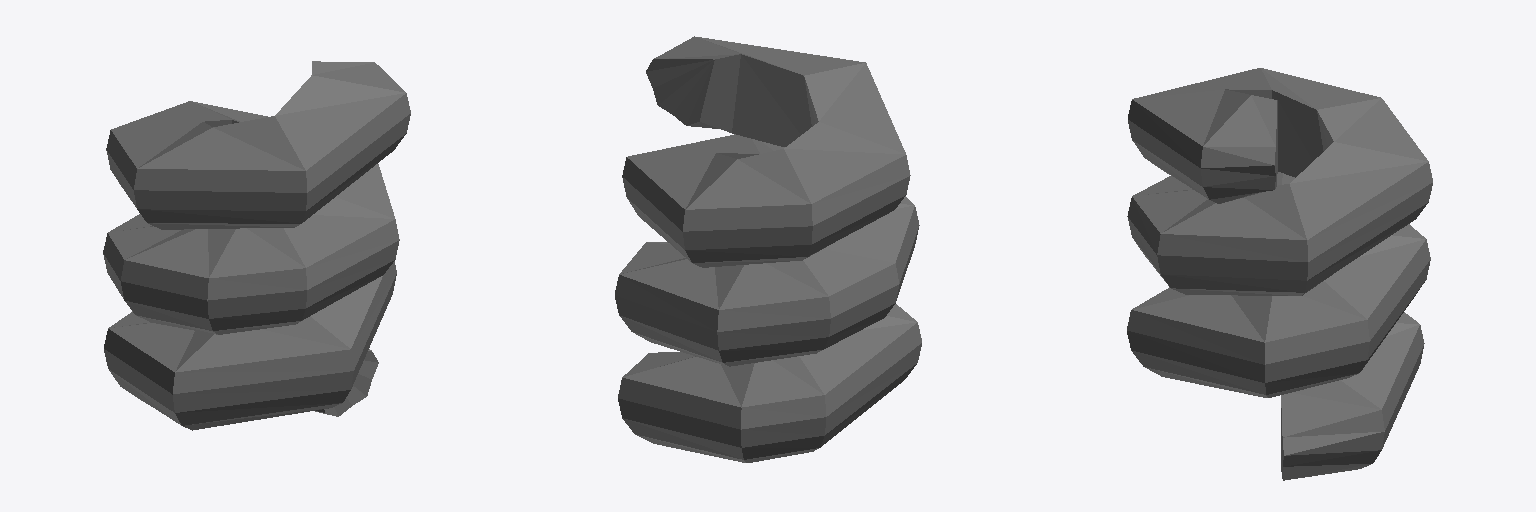
Rendered from helix_2.obj.
The picture shows the model from 3 angles: view 1: azimuth 30°, elevation 25°; view 2: azimuth 150°, elevation 25°; view 3: azimuth 270°, elevation 25°; orthographic projection.
Parts seen in each view (by area): view 1: helix_1:pHelix1; view 2: helix_1:pHelix1; view 3: helix_1:pHelix1.
Part boxes in pixels (bbox=[...]): helix_1:pHelix1: bbox=[103, 61, 410, 430]; helix_1:pHelix1: bbox=[615, 36, 921, 462]; helix_1:pHelix1: bbox=[1127, 68, 1432, 480].
Size of the model in its own units: 1.92 by 2.5 by 1.91.